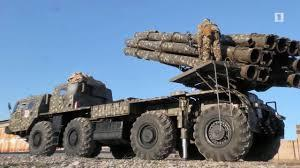MIL_SAM_TEL: (9, 29, 300, 158)
